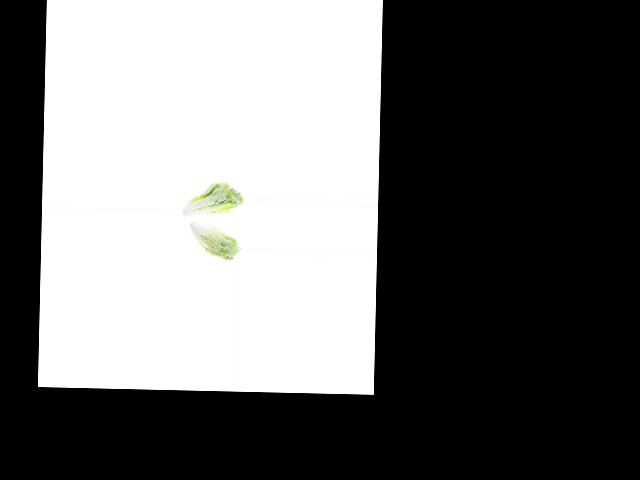lettuce: (182, 220, 240, 261)
